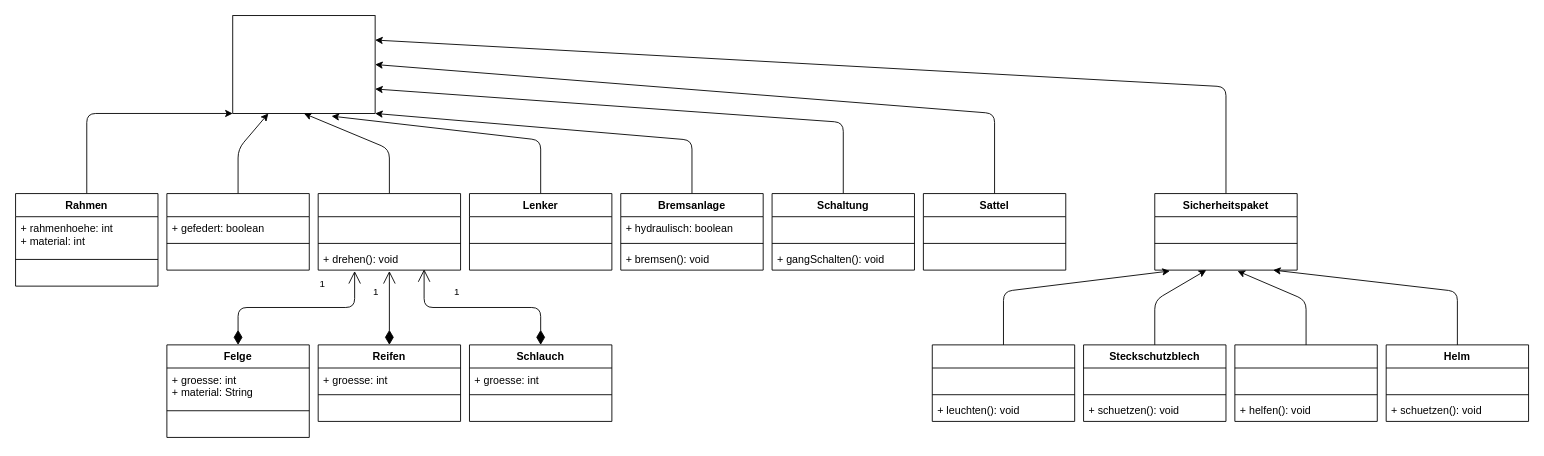
This 1544x456 diagram has some shape labels left out. Here are the shapes that lost their labels. From the top down, the box of each, then its label:
(232, 15, 375, 113): Fahrrad + rahmengroesse: int + farbe: String + fahren() + srpinten()
(166, 193, 309, 270): Gabel
(317, 193, 461, 270): Rad
(931, 344, 1075, 421): Lampe
(1234, 344, 1377, 421): Pannenset
